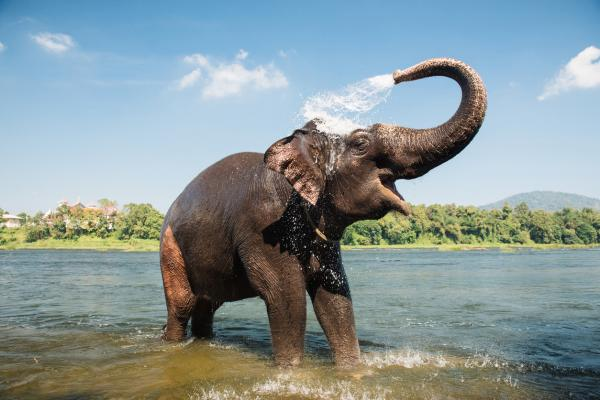Indian Elephant: (136, 50, 499, 379)
